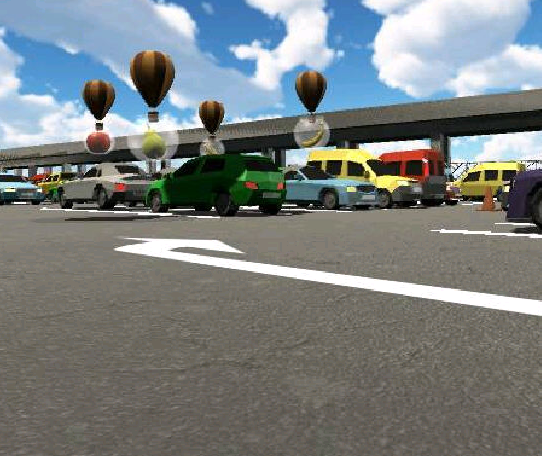ground_right: (111, 236, 246, 259)
